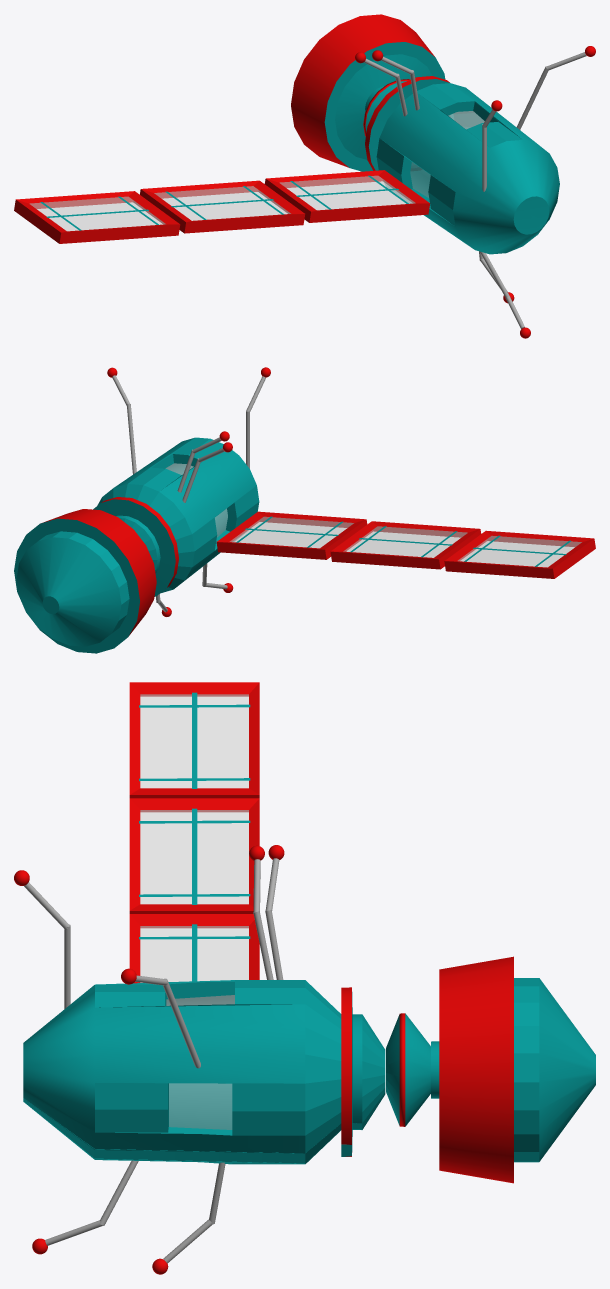
File: S2_Body_1Wing.fbx
The picture shows the model from 3 angles, top to bottom: view 1: azimuth 30°, elevation 25°; view 2: azimuth 150°, elevation 25°; view 3: azimuth 270°, elevation 25°; orthographic projection. The views are drawn at different scales.
Visible parts, largest first — view 1: pCylinder13, pCube6; view 2: pCylinder13, pCube6; view 3: pCylinder13, pCube6.
Part boxes in pixels (<box>): pCylinder13: <box>291,14,595,338</box>; pCube6: <box>14,170,429,243</box>; pCylinder13: <box>14,367,270,653</box>; pCube6: <box>216,511,595,578</box>; pCylinder13: <box>14,845,595,1274</box>; pCube6: <box>129,682,259,983</box>.
Size of the model in its own units: 72.33 by 32.55 by 47.58.
